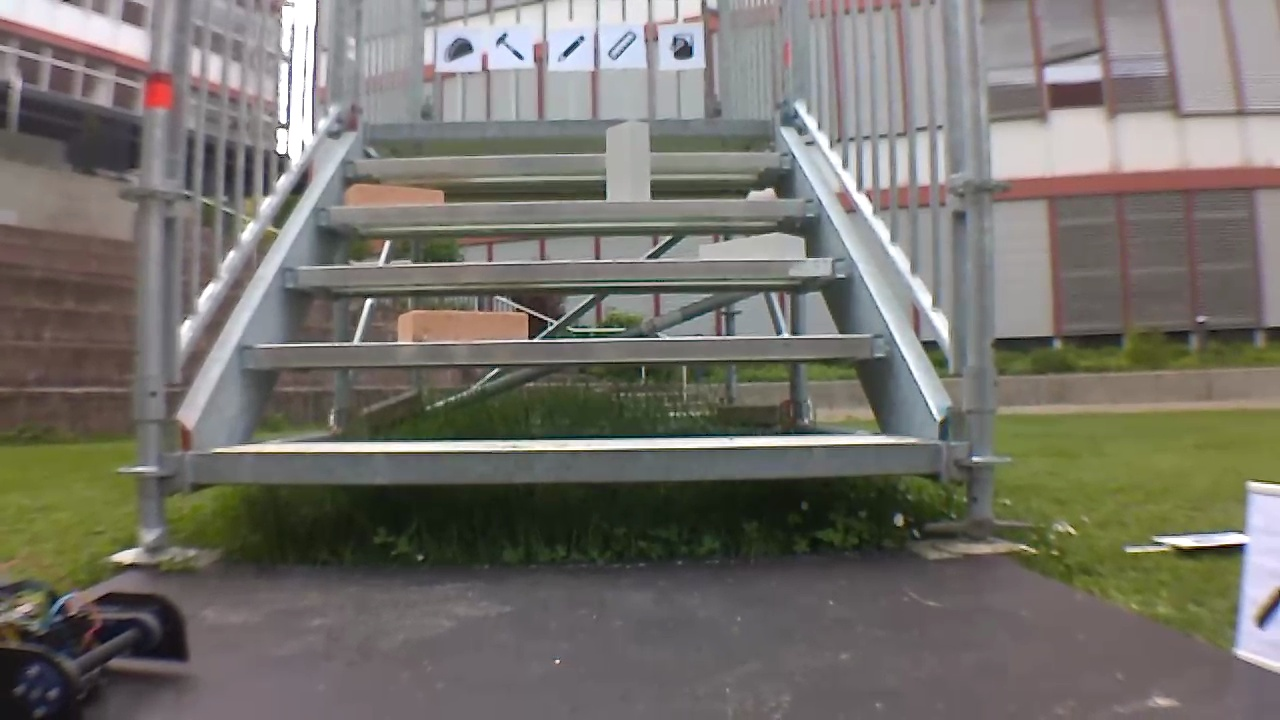brick: (399, 311, 527, 341), (607, 122, 650, 199), (698, 233, 803, 259), (344, 184, 442, 204)
bucket: (662, 28, 700, 64)
edge: (193, 442, 934, 480), (242, 334, 888, 362), (283, 257, 848, 283), (316, 197, 817, 218), (345, 153, 796, 172), (367, 118, 774, 137)
hammer: (489, 30, 526, 62)
pencil: (551, 31, 589, 64)
ruler: (606, 25, 641, 64)
stairs: (128, 1, 1004, 543)
steps: (188, 112, 944, 498)
taco: (438, 33, 477, 66)
